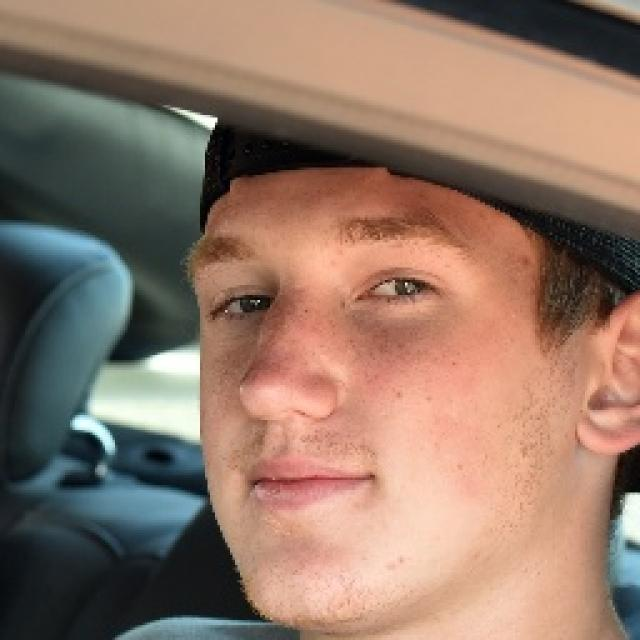earlobe: (572, 292, 640, 458)
